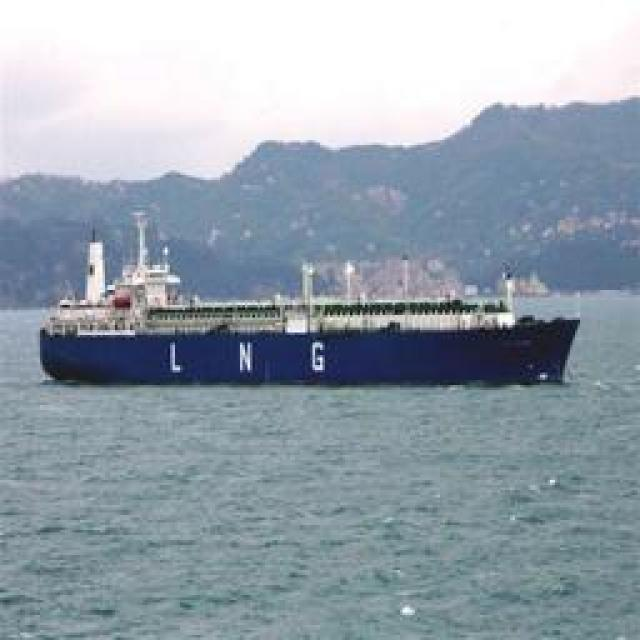CIV_Ship: (54, 218, 576, 386)
